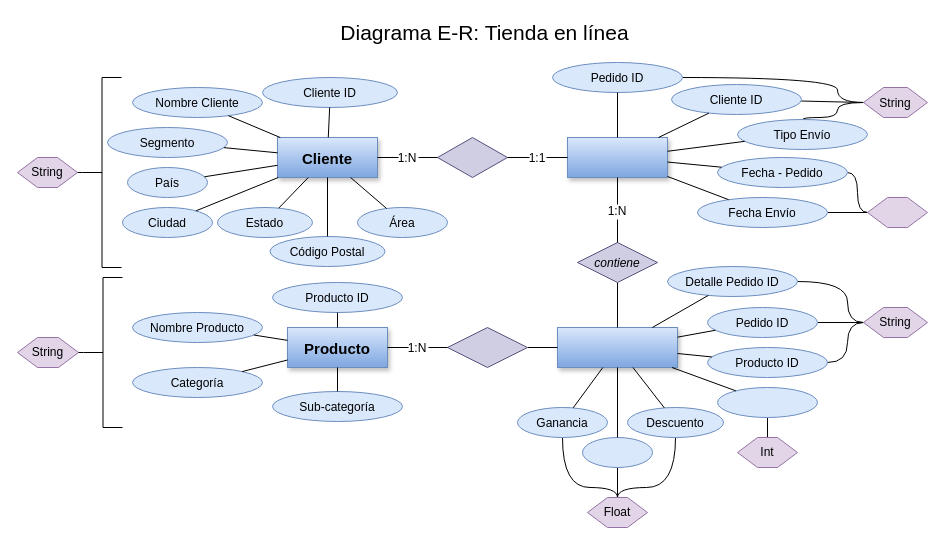
Image size: 945x545. Some labels were removed from this diagram. Each missing label, with the centre of its shape:
Cantidad: [767,402]
Date: [897,212]
describe: [487,347]
Detalle Pedido: [618,348]
ordena: [472,157]
Pedido: [618,158]
Venta: [617,452]
